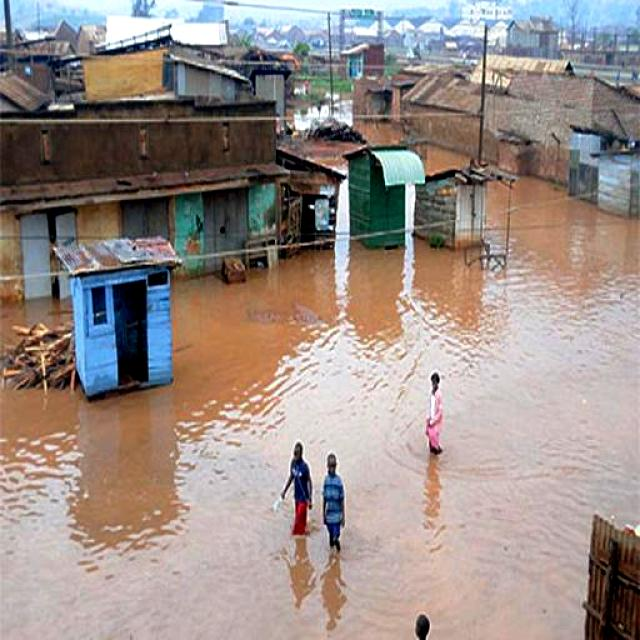civilian: (262, 429, 319, 550), (402, 352, 461, 466), (310, 444, 358, 560)
